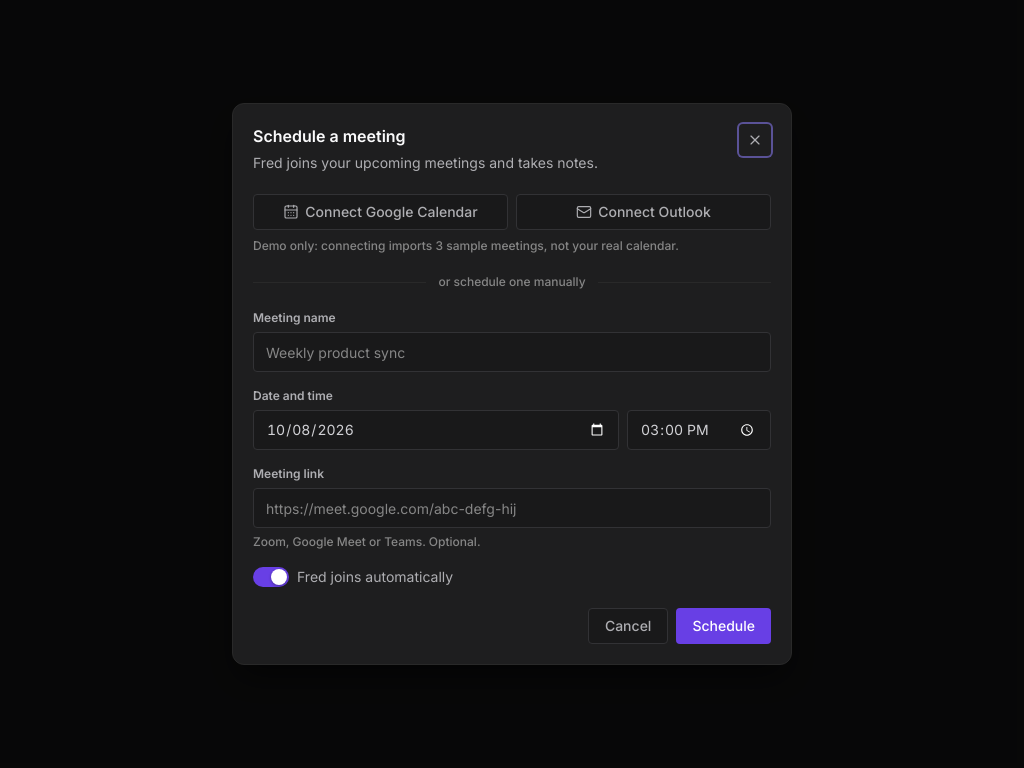
Scenario: ScheduleModal › maps a server 'in the past' rejection onto the date field
Type "Late" into the field labelled "Meeting name" at {"x": 512, "y": 352}, box [253,332,771,372]
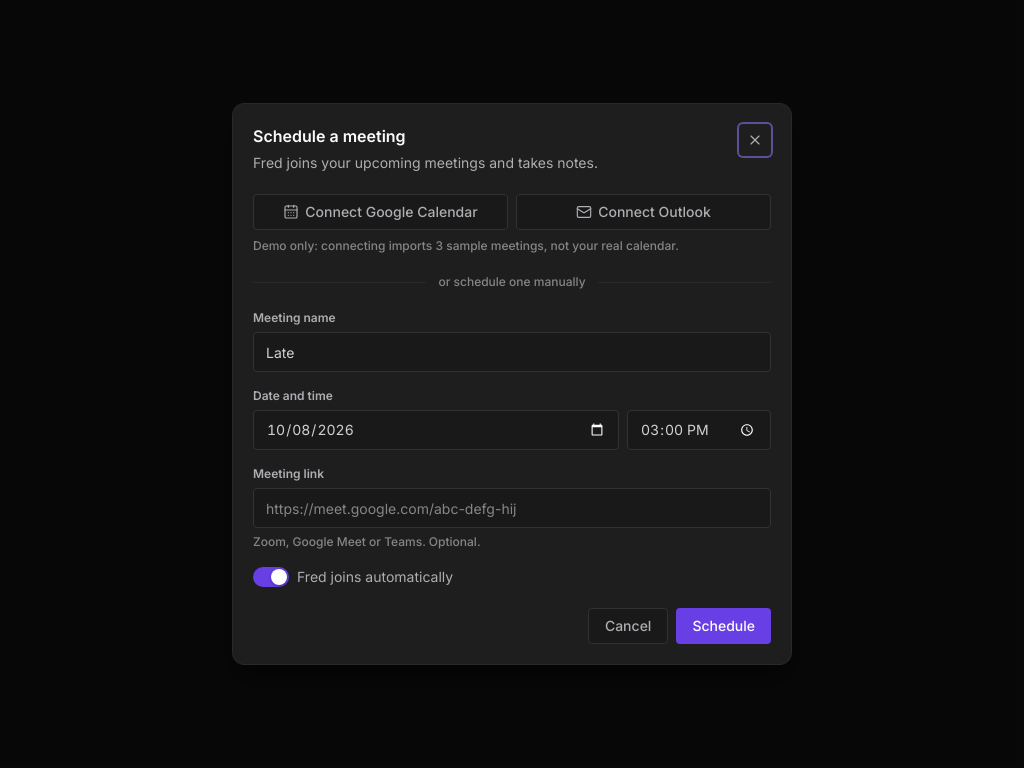
Click the button "Schedule" at {"x": 724, "y": 626}, box [676,608,771,644]
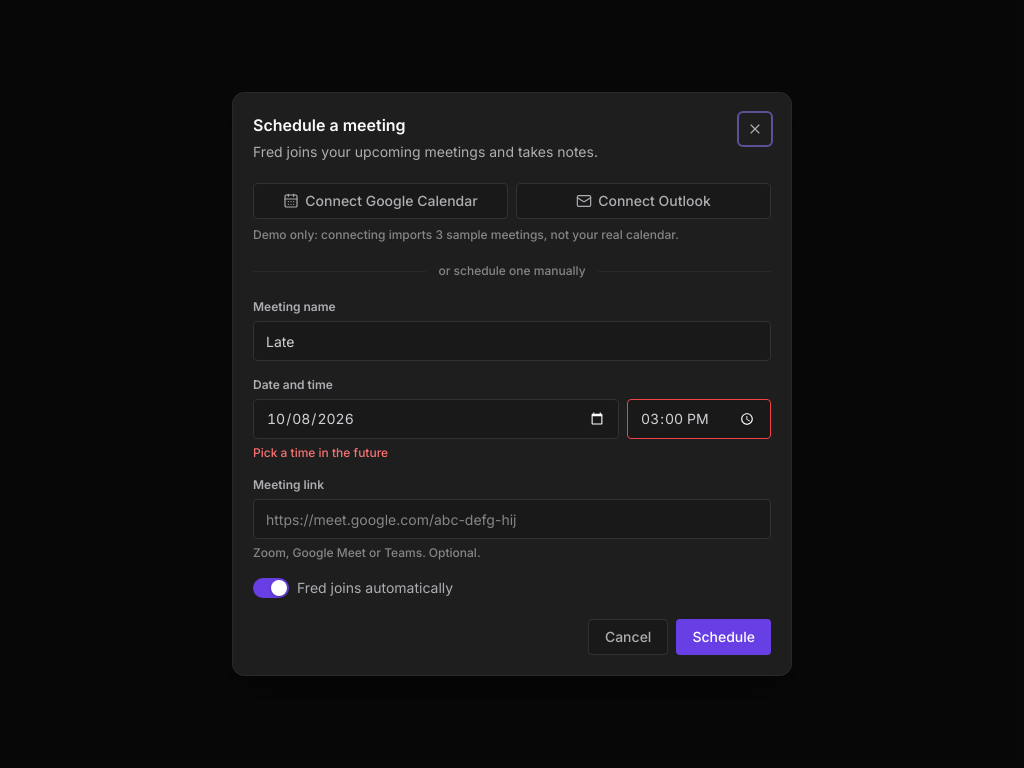
expect the text "Pick a time in the future" is shown: met, box [253,445,388,460]
